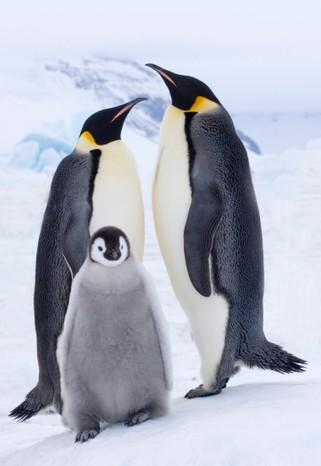emporer: (15, 92, 185, 424), (140, 42, 279, 404)
